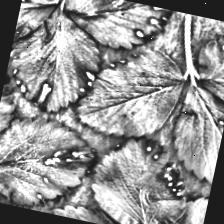Leaf Spot: (70, 34, 189, 149), (0, 0, 111, 120), (82, 123, 200, 224), (0, 107, 105, 218), (50, 0, 174, 58), (163, 79, 224, 185), (39, 196, 153, 224), (188, 23, 224, 107), (11, 0, 62, 57), (159, 187, 208, 224)
